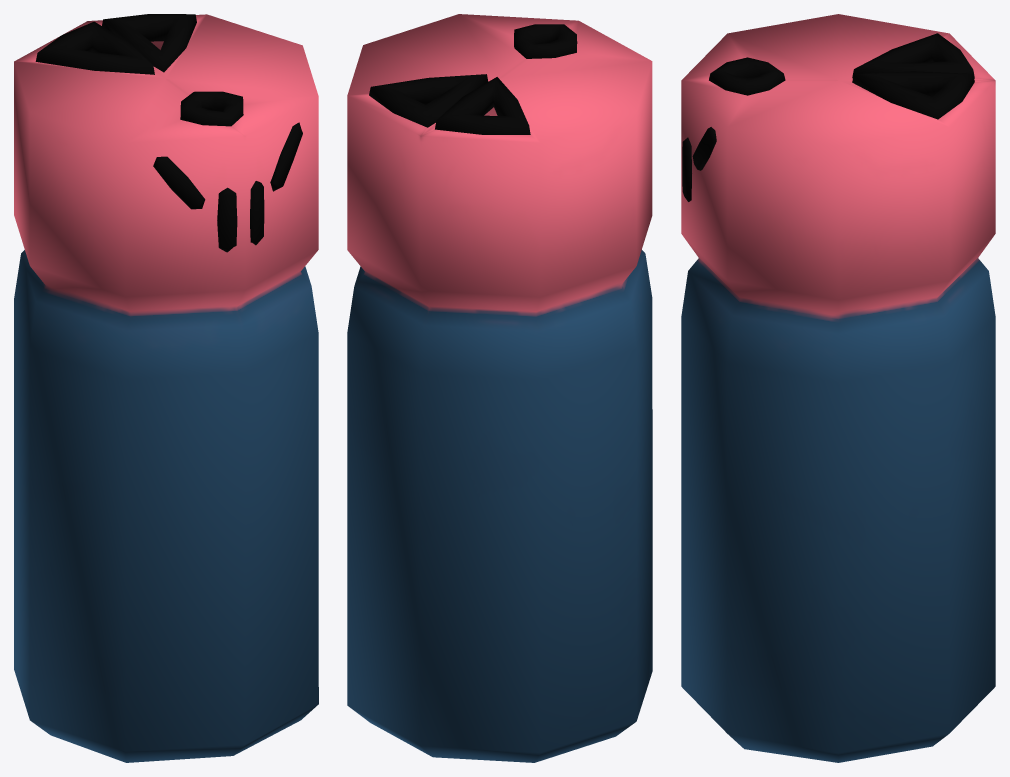
Rendered from Saleiro.fbx.
3 renders of one model, left to right at view 1: azimuth 30°, elevation 25°; view 2: azimuth 150°, elevation 25°; view 3: azimuth 270°, elevation 25°, orthographic.
Parts seen in each view (by area): view 1: Saleiro; view 2: Saleiro; view 3: Saleiro.
Boxes of the visible parts, box(x1,y1,x2,y2) form: Saleiro: box(14, 14, 318, 762); Saleiro: box(347, 14, 652, 762); Saleiro: box(681, 14, 995, 762).
Size of the model in its own units: 10 by 22.4 by 10.
